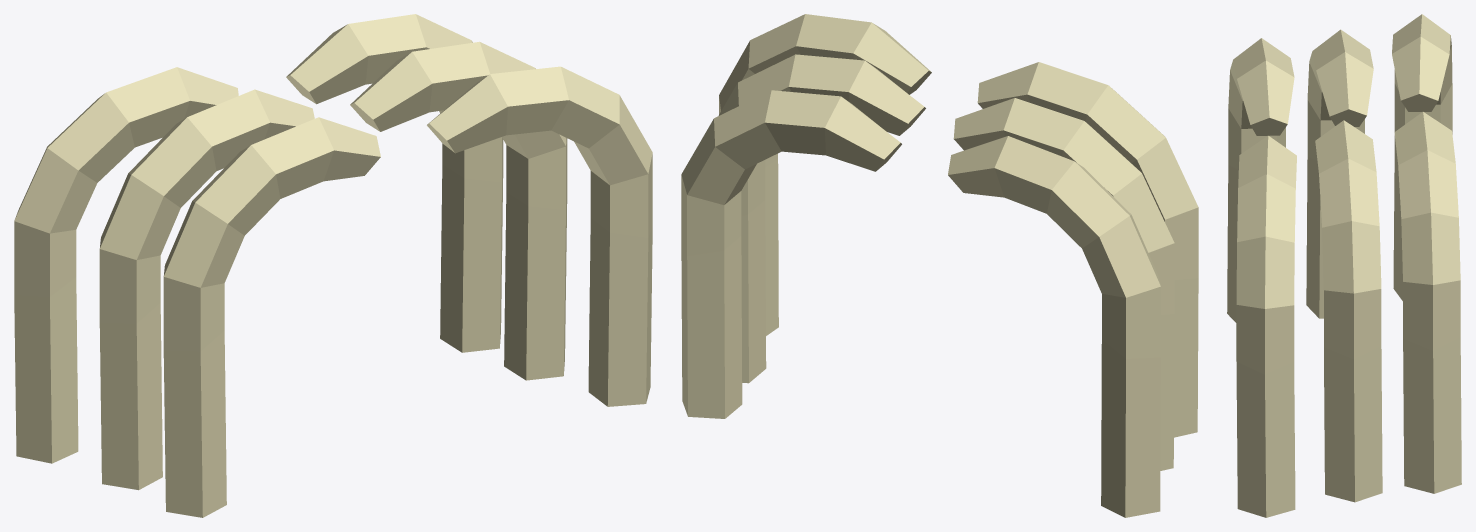
The model's file is ribswhole.fbx.
3 renders of one model, left to right at view 1: azimuth 30°, elevation 25°; view 2: azimuth 150°, elevation 25°; view 3: azimuth 270°, elevation 25°, orthographic. The views are drawn at different scales.
Visible parts, largest first — view 1: Ribs.001; view 2: Ribs.001; view 3: Ribs.001.
Part boxes in pixels (x1,y1,x2,y2): Ribs.001: (14,14,652,517); Ribs.001: (681,14,1198,517); Ribs.001: (1227,14,1461,517).
Size of the model in its own units: 466 by 285 by 193.
